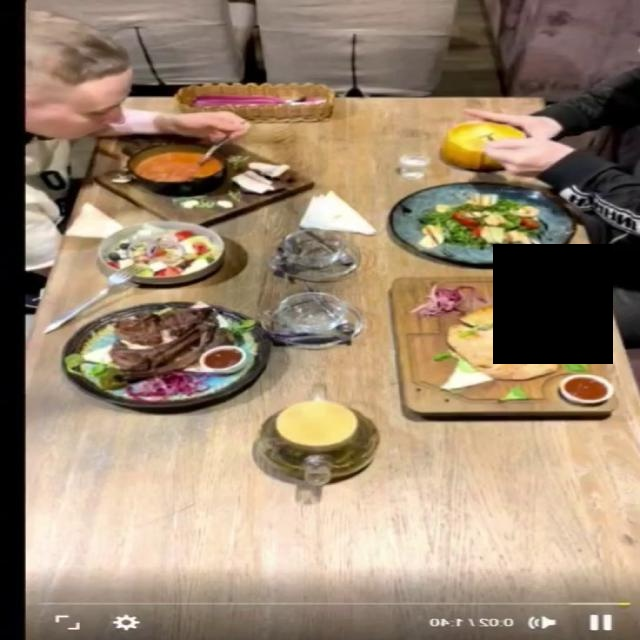meat: (391, 281, 616, 413), (60, 300, 273, 408)
salad: (392, 182, 579, 265), (95, 220, 225, 285)
soup: (91, 134, 316, 226), (440, 121, 527, 169)
tea: (222, 372, 402, 511)
